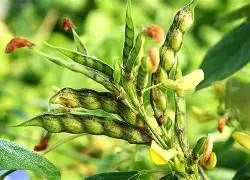crops: (0, 0, 248, 177), (119, 0, 162, 86)
